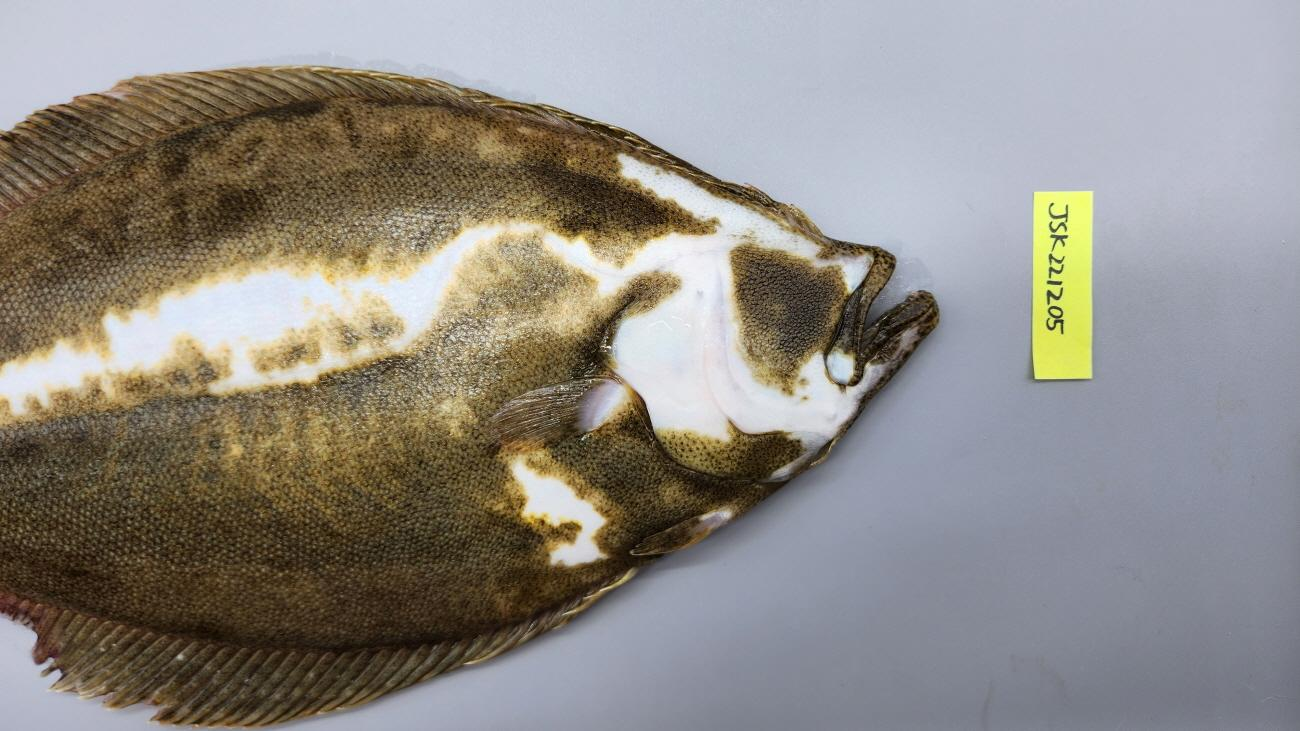MAFAB: (0, 583, 67, 662)
